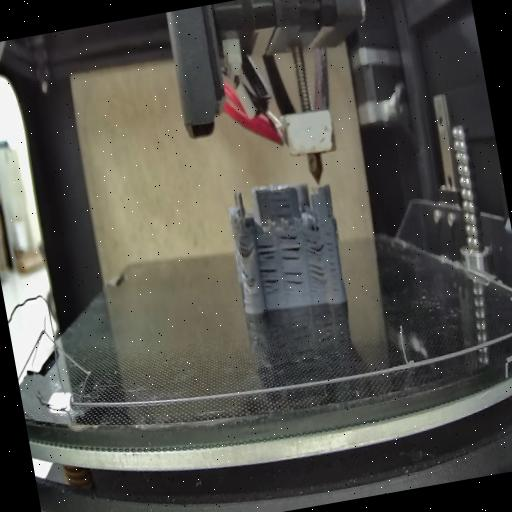cracks: (323, 233, 341, 293), (276, 232, 301, 262), (258, 262, 280, 296), (282, 266, 306, 294), (268, 193, 292, 221), (303, 232, 326, 258), (306, 260, 328, 286), (255, 240, 277, 260), (238, 238, 250, 256), (239, 264, 248, 280), (324, 206, 332, 220)
